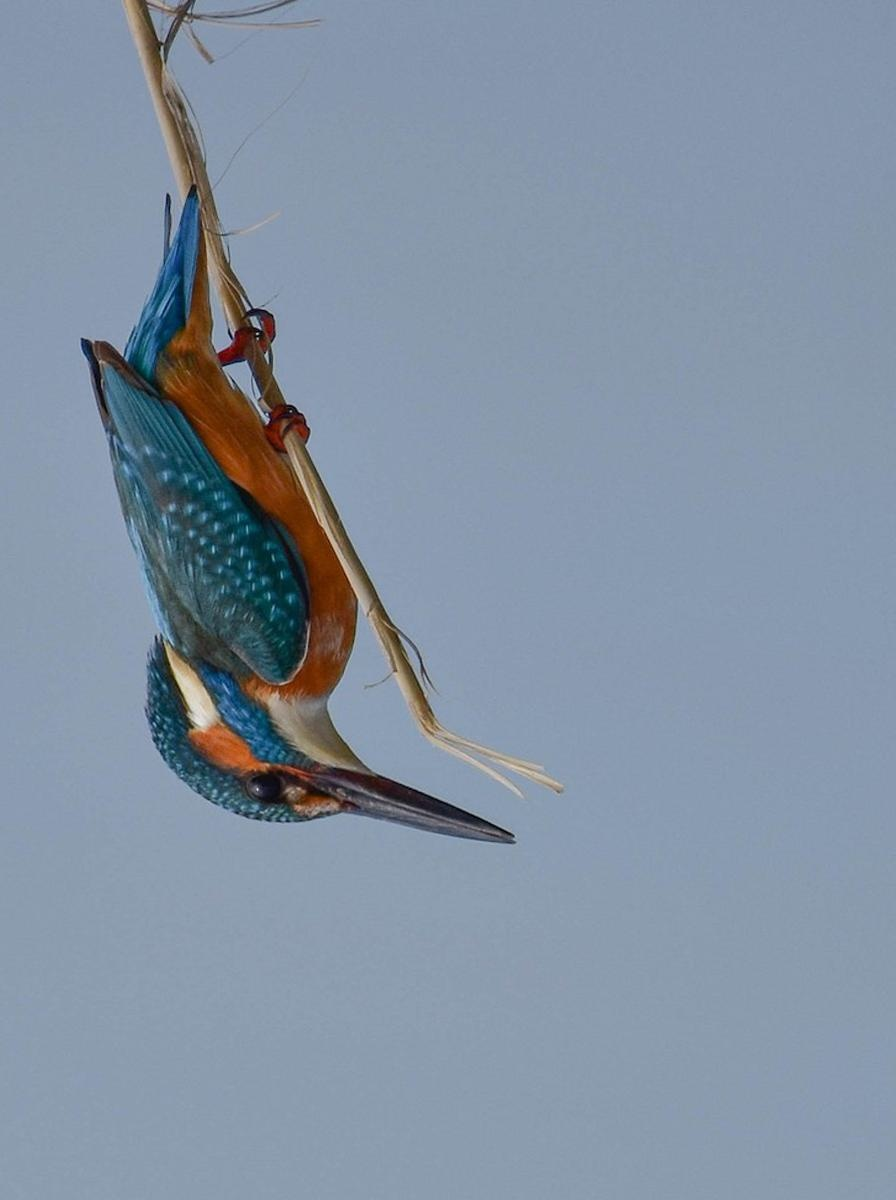kingfisher: (98, 151, 521, 950)
